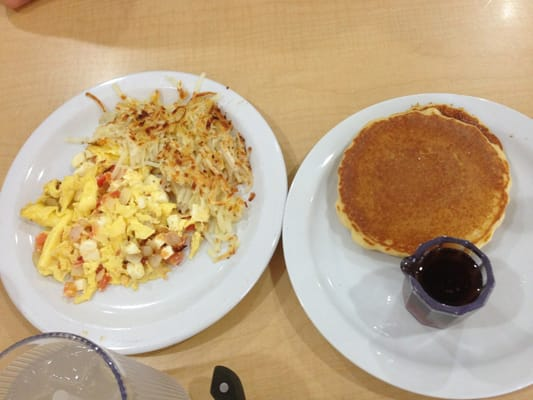salad: (210, 365, 247, 400)
sushi: (0, 70, 289, 356)
